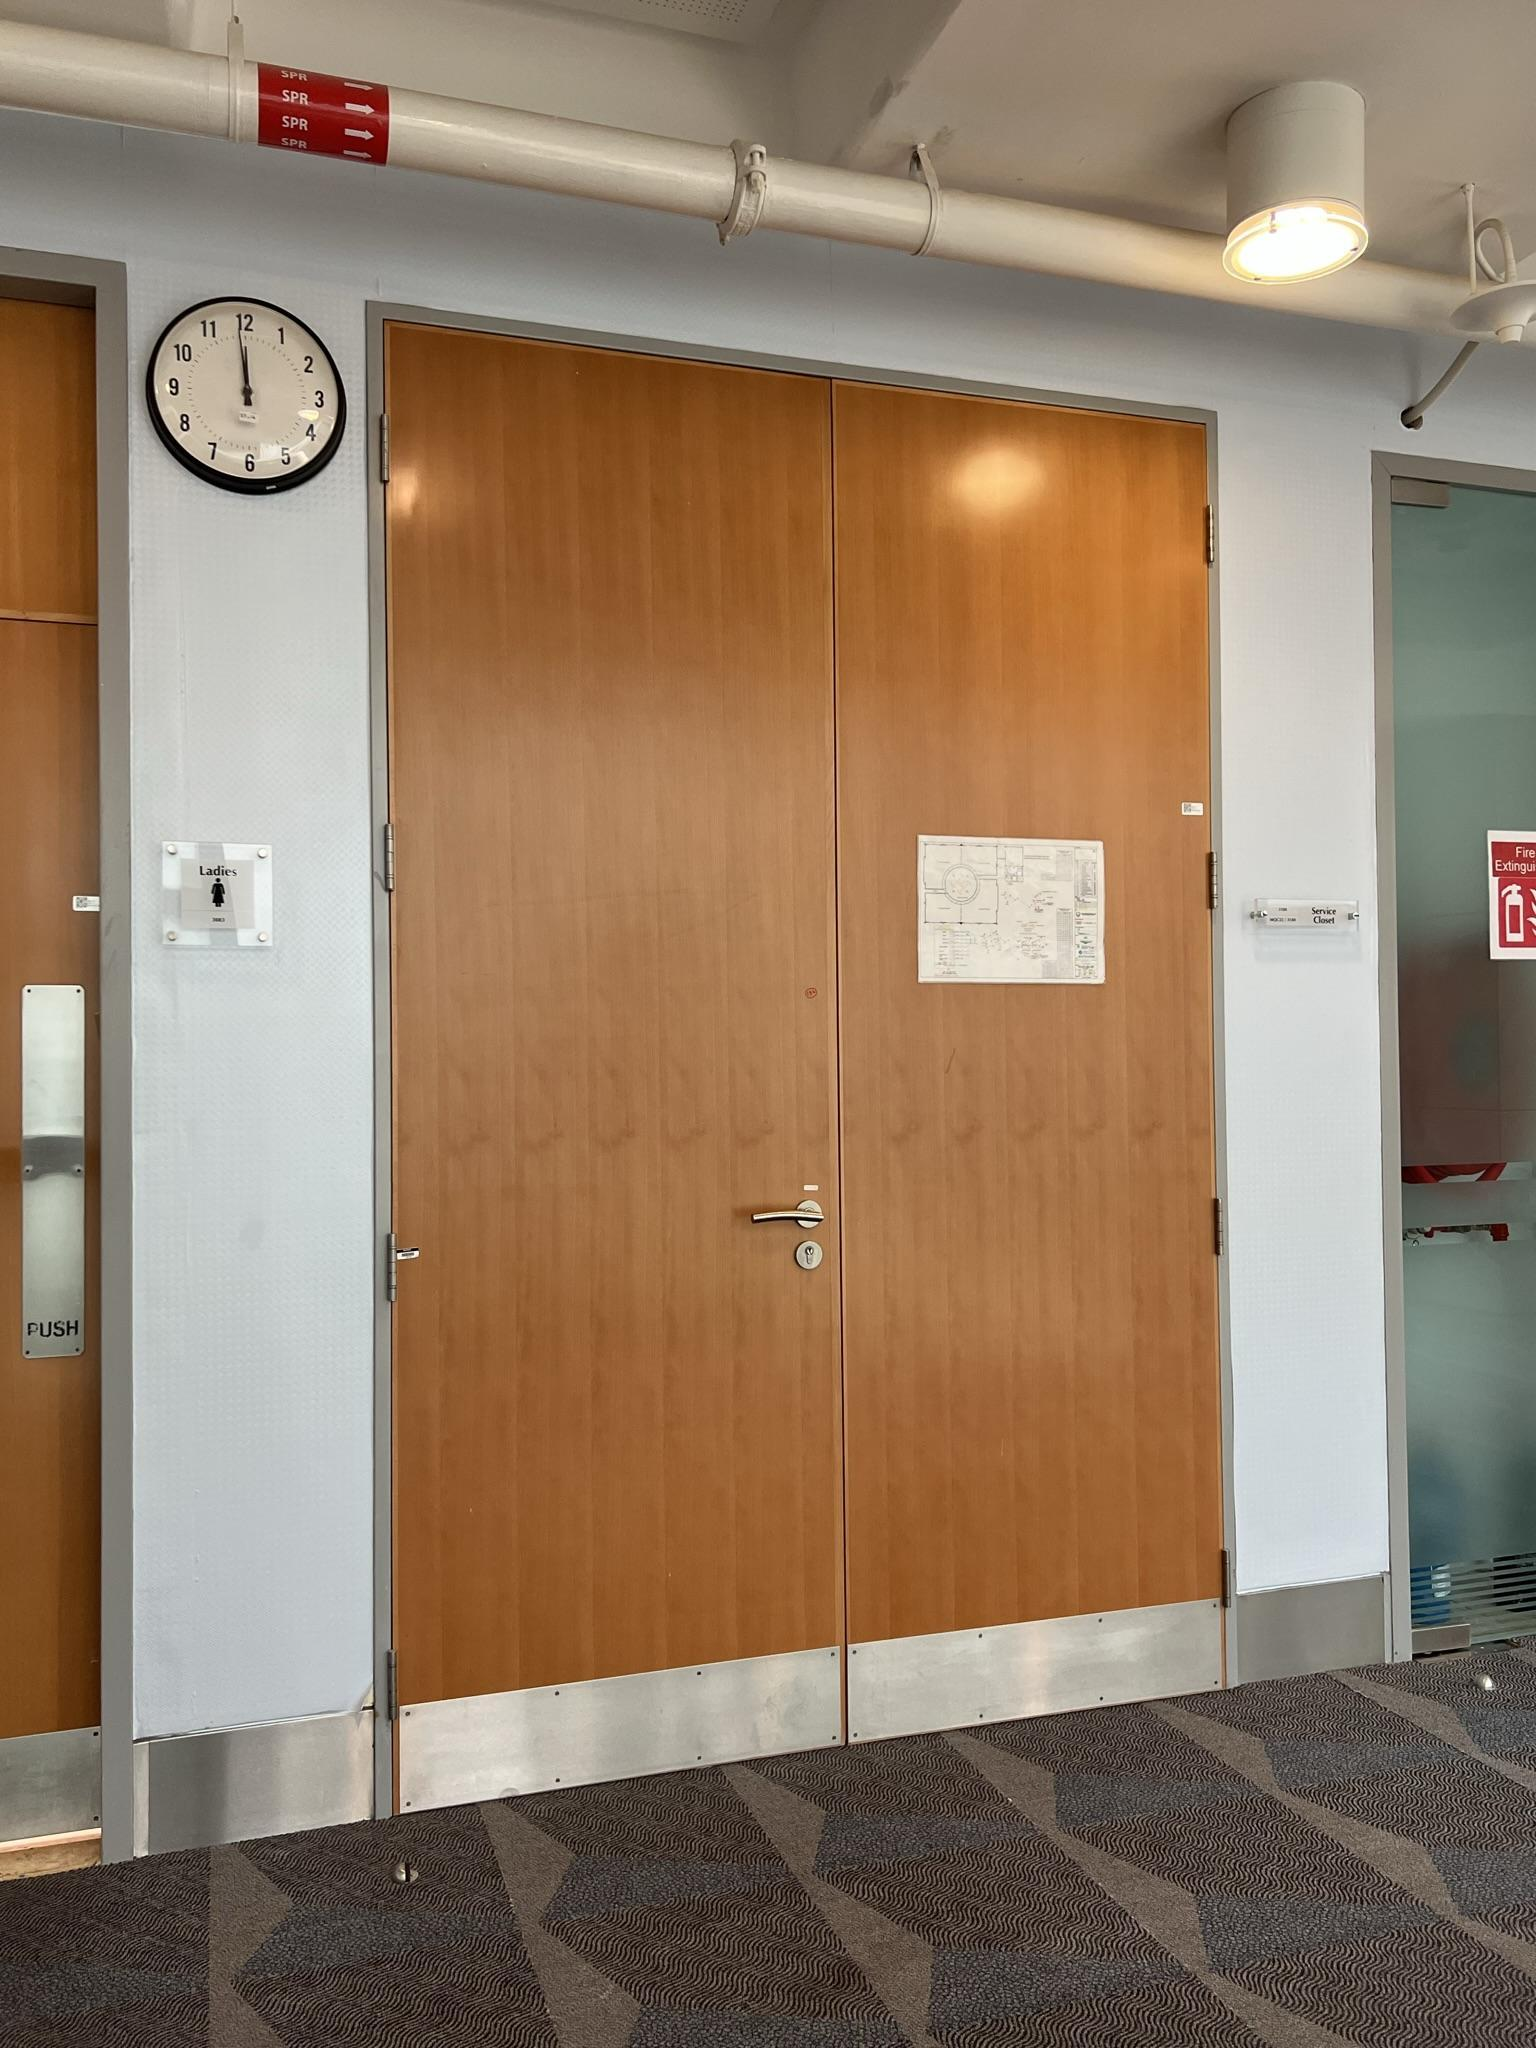door: (361, 306, 849, 1771), (828, 356, 1238, 1717), (2, 252, 157, 1879), (1367, 456, 1536, 1655)
handle: (742, 1192, 845, 1279)
